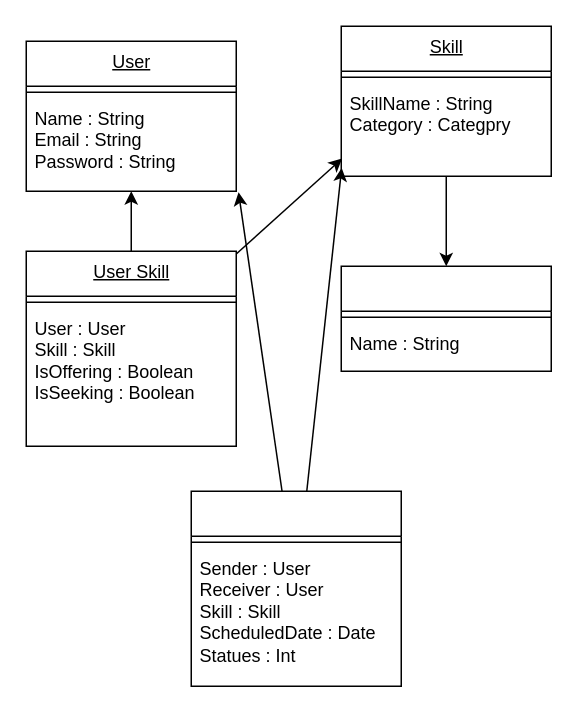
Some shapes in this 578 by 713 pixel diagram are drawn without their labels. Here are the shapes that lost their labels. From the top down, the box of each, then its label:
(340, 265, 551, 371): Category
(190, 490, 401, 686): Booking
